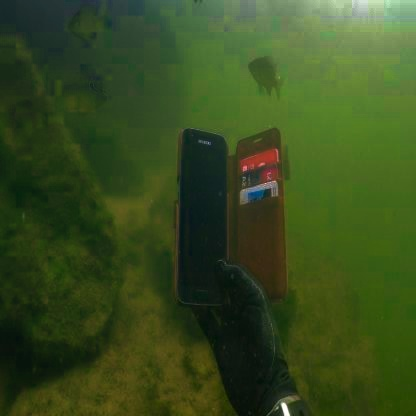cellphone: (176, 127, 228, 308)
